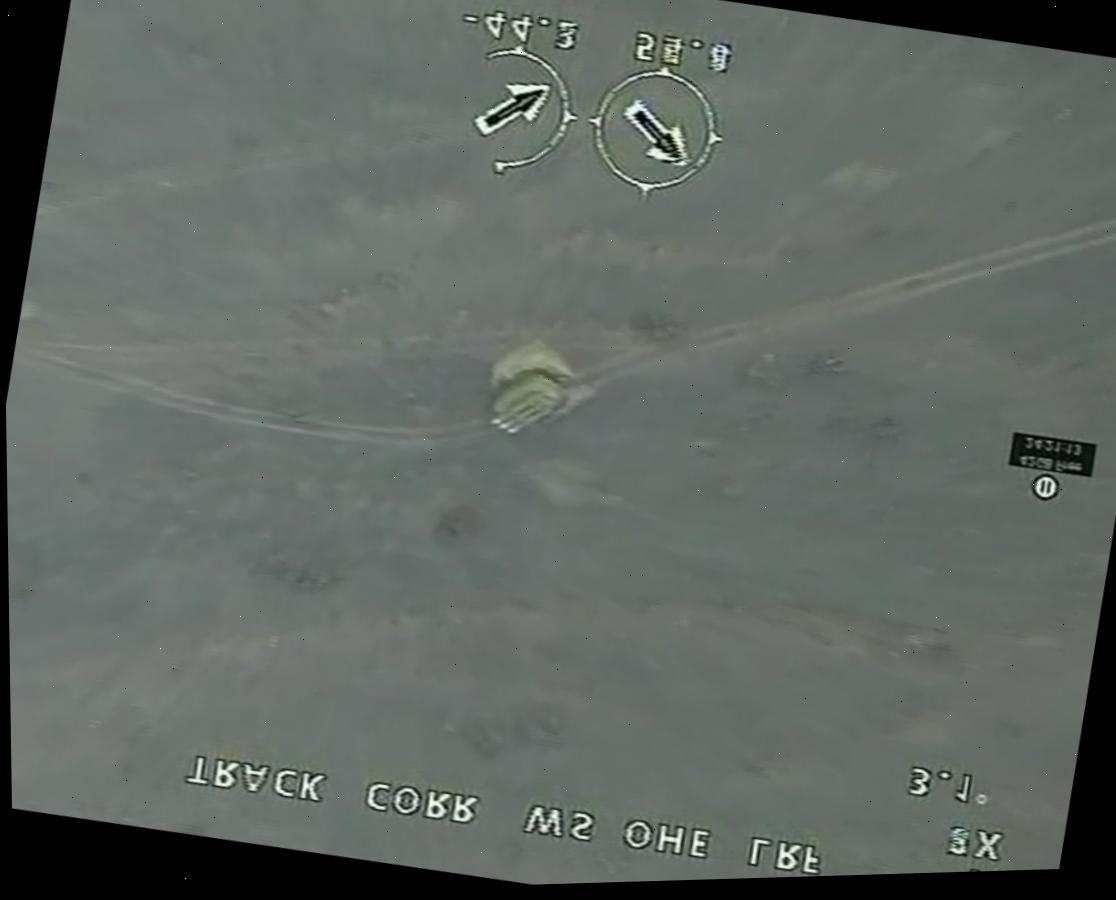armored_car: (483, 359, 577, 449)
